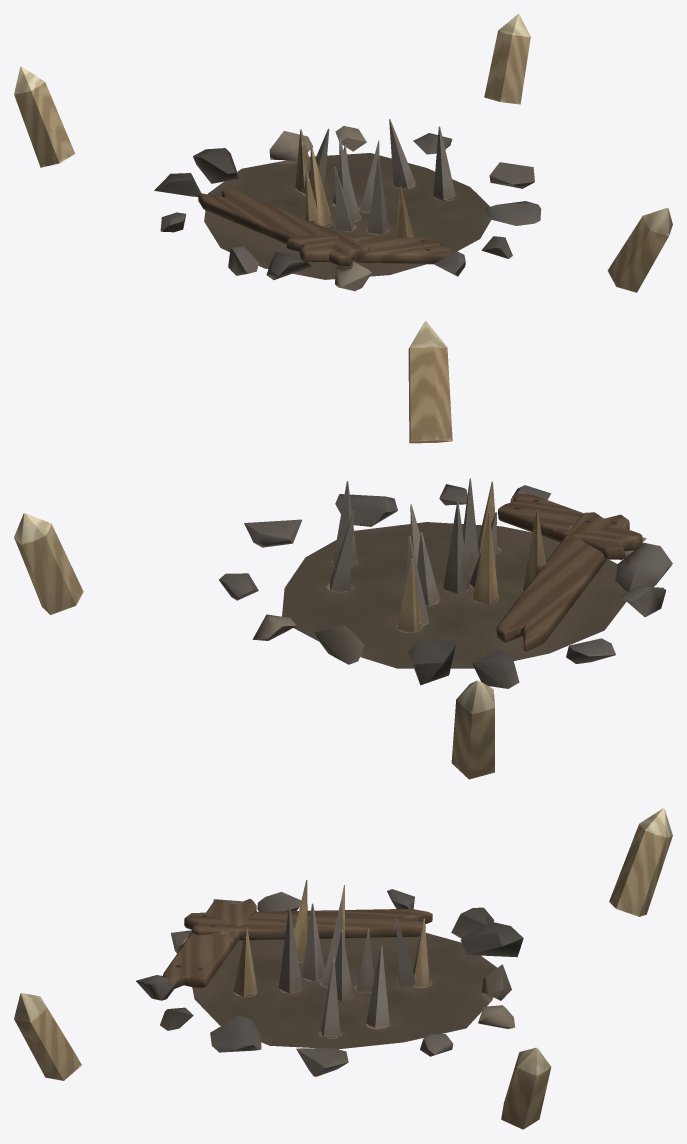
Rendered from trap-cave.hq.glb.
3 views of the same model, one above another, from view 1: azimuth 30°, elevation 25°; view 2: azimuth 150°, elevation 25°; view 3: azimuth 270°, elevation 25° (orthographic). The views are drawn at different scales.
Parts seen in each view (by area): view 1: trap-cave; view 2: trap-cave; view 3: trap-cave.
Part boxes in pixels (<box>): trap-cave: <box>14,14,672,292</box>; trap-cave: <box>14,321,672,779</box>; trap-cave: <box>14,808,672,1129</box>.
Size of the model in its own units: 1.24 by 0.2416 by 1.45.
Materials: 1 (1 with a texture image).
